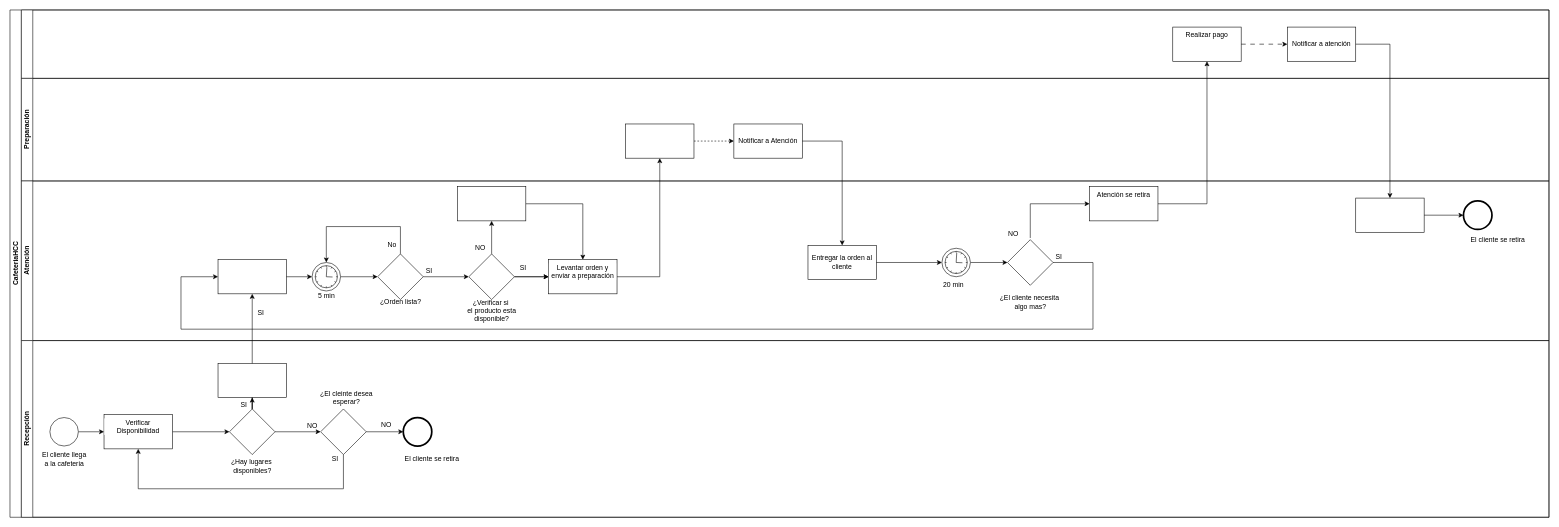
This 1559x527 diagram has some shape labels left out. The box of each missing label's shape, as (x1, y1, x2, y2) in pixels:
Asignar un lugar al cliente: (217, 363, 286, 398)
Caja: (21, 9, 1549, 78)
Entregar Menu, notificar que volvera em 5min: (217, 259, 286, 294)
Limpiar el lugar: (1355, 198, 1424, 232)
Recibir la orden y preparar: (625, 123, 694, 158)
Sugerir otro producto: (457, 186, 526, 221)
